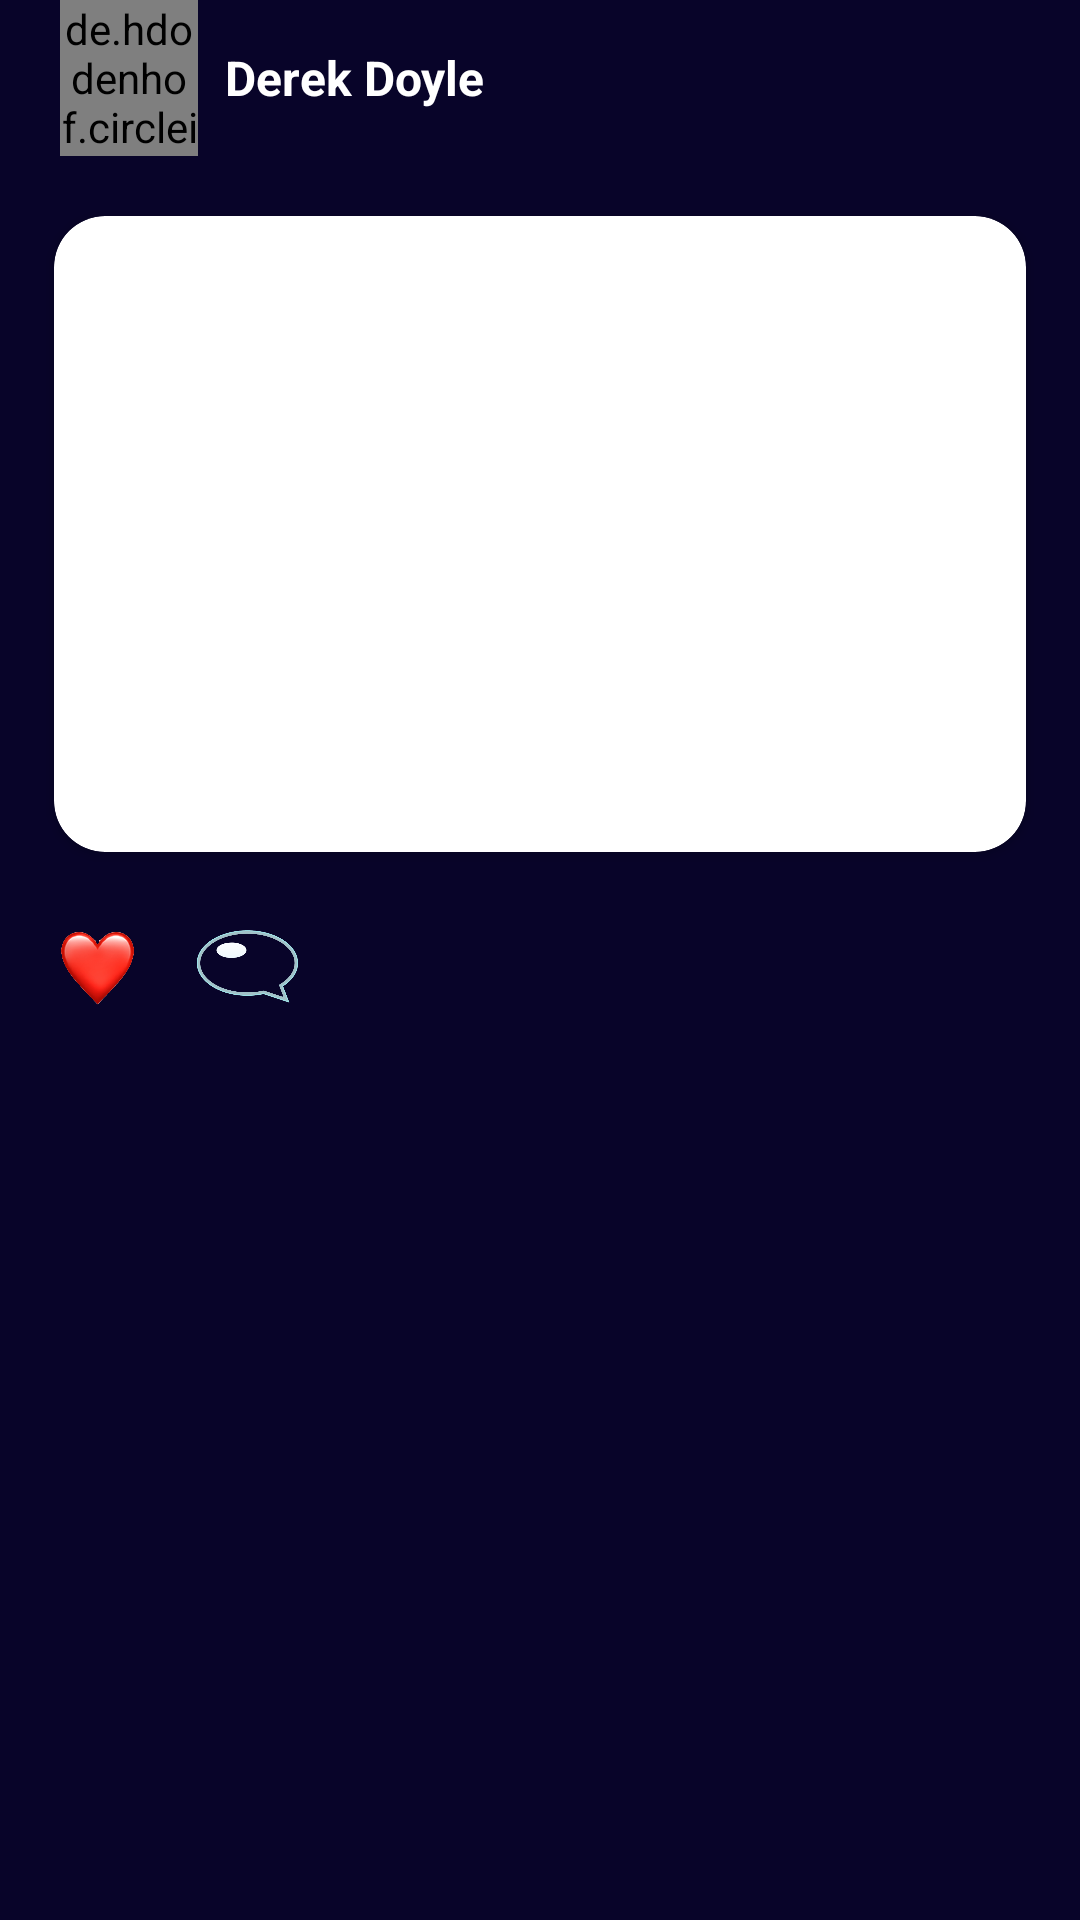

Named icons in this screenshot (1080 × 1920) and their bounding boxes, (left=x1, top=y1, right=x2, bottom=y2):
comment: (left=197, top=930, right=298, bottom=1003)
like: (left=61, top=932, right=134, bottom=1004)
